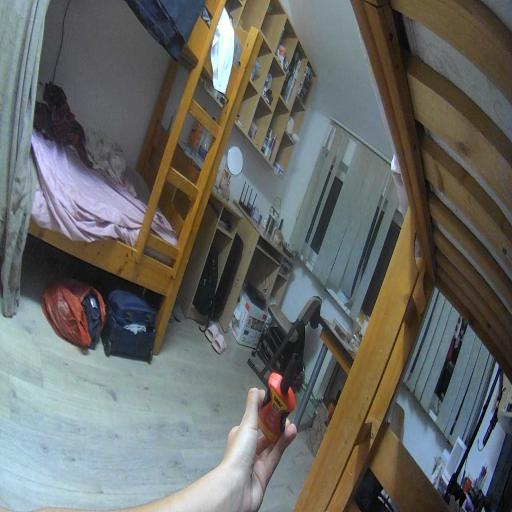Super Glue: (257, 353, 297, 442)
